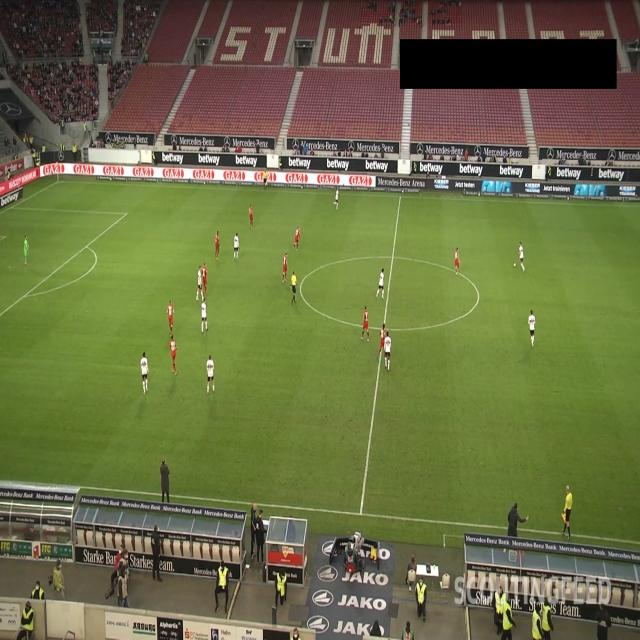ball: (512, 262, 516, 268)
